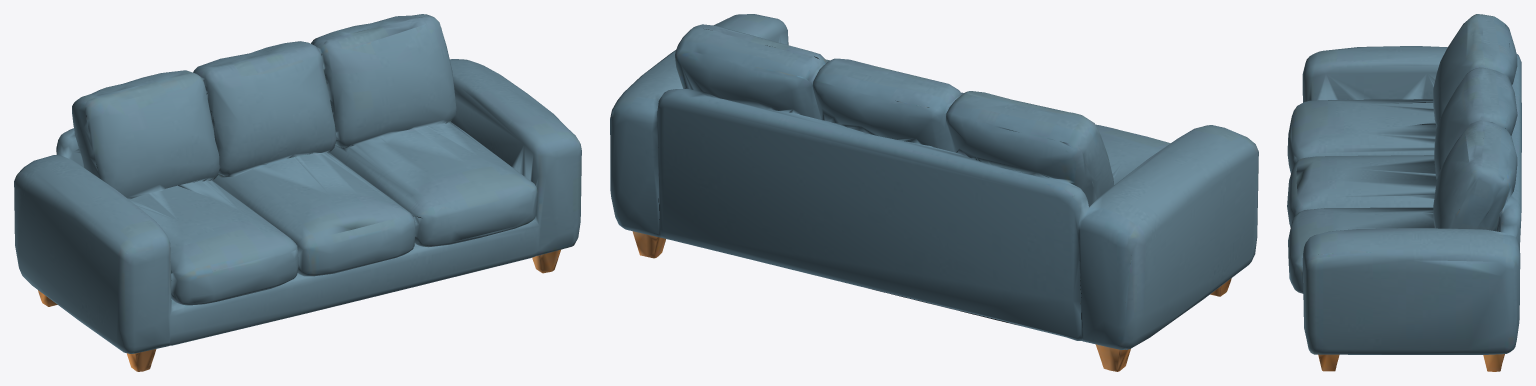
File: sofa.glb
3 renders of one model, left to right at view 1: azimuth 30°, elevation 25°; view 2: azimuth 150°, elevation 25°; view 3: azimuth 270°, elevation 25°, orthographic. The views are drawn at different scales.
Parts seen in each view (by area): view 1: sofa; view 2: sofa; view 3: sofa.
Part boxes in pixels (x1,y1,x2,y2): sofa: [14, 14, 581, 371]; sofa: [610, 14, 1258, 371]; sofa: [1287, 14, 1521, 371].
Size of the model in its own units: 1.88 by 0.78 by 0.8837.
Materials: 1 (1 with a texture image).
